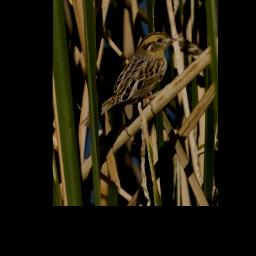Sparrow: (78, 30, 180, 129)
